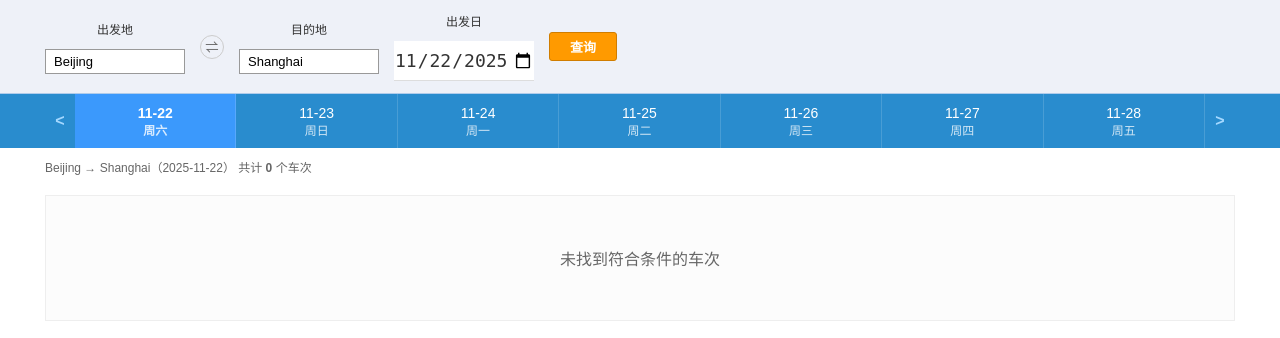
Test: P002_Search 组件测试 - 筛选栏交互（按现有实现） › 点击交换按钮后出发地与目的地交换
Check: the field showing "Beijing" below "出发地" holds "Beijing", box [45,48,185,74]
Check: the field showing "Shanghai" below "目的地" holds "Shanghai", box [239,48,379,74]
Click the button "⇌" at {"x": 212, "y": 46}, box [200,34,224,58]
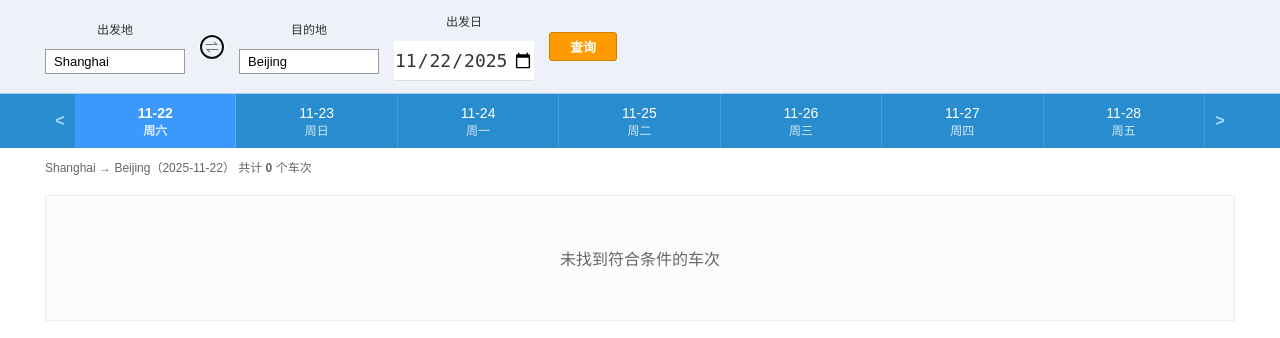
Check: the field showing "Beijing" below "出发地" holds "Shanghai", box [45,48,185,74]
Check: the field showing "Shanghai" below "目的地" holds "Beijing", box [239,48,379,74]
